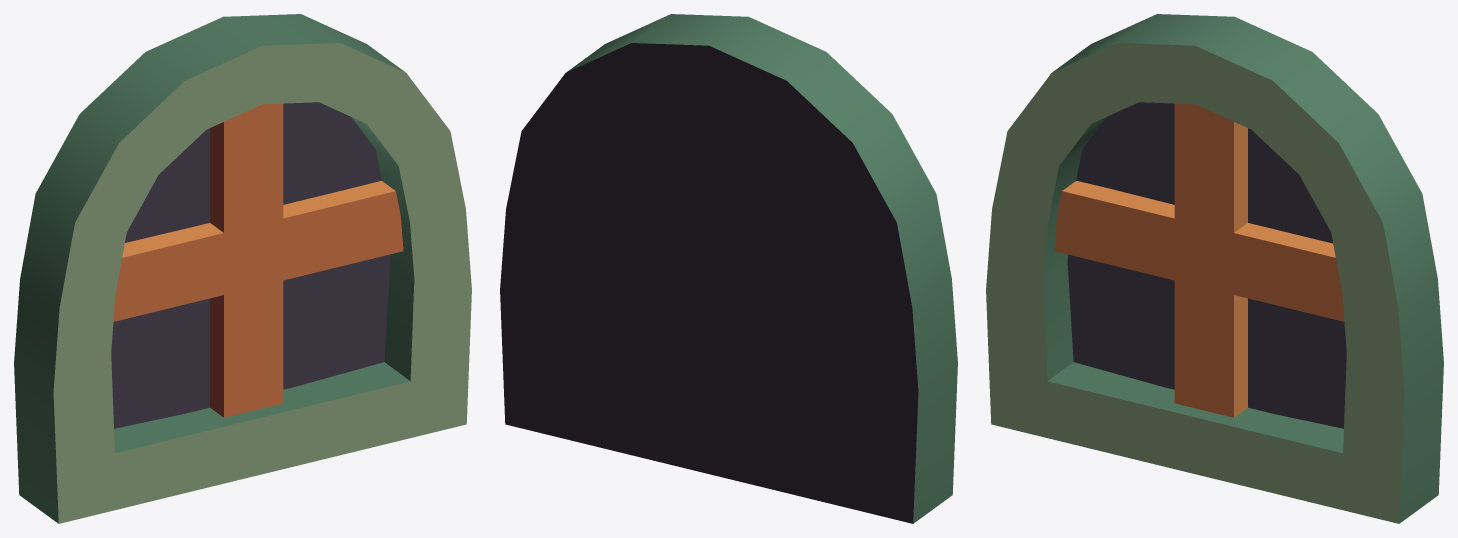
The model's file is SmallWindow01_Green_Wood.glb.
The picture shows the model from 3 angles, left to right: view 1: azimuth 30°, elevation 25°; view 2: azimuth 150°, elevation 25°; view 3: azimuth 330°, elevation 25°; orthographic projection.
Visible parts, largest first — view 1: SmallWindow01_Green_Wood; view 2: SmallWindow01_Green_Wood; view 3: SmallWindow01_Green_Wood.
Part boxes in pixels (box(x1,y1,x2,y2)): SmallWindow01_Green_Wood: box(14, 14, 471, 523); SmallWindow01_Green_Wood: box(500, 14, 957, 523); SmallWindow01_Green_Wood: box(986, 14, 1443, 523).
Bounding box in the file's own units: 0.5801 × 0.5676 × 0.0949.
1 material, 1 textured.
